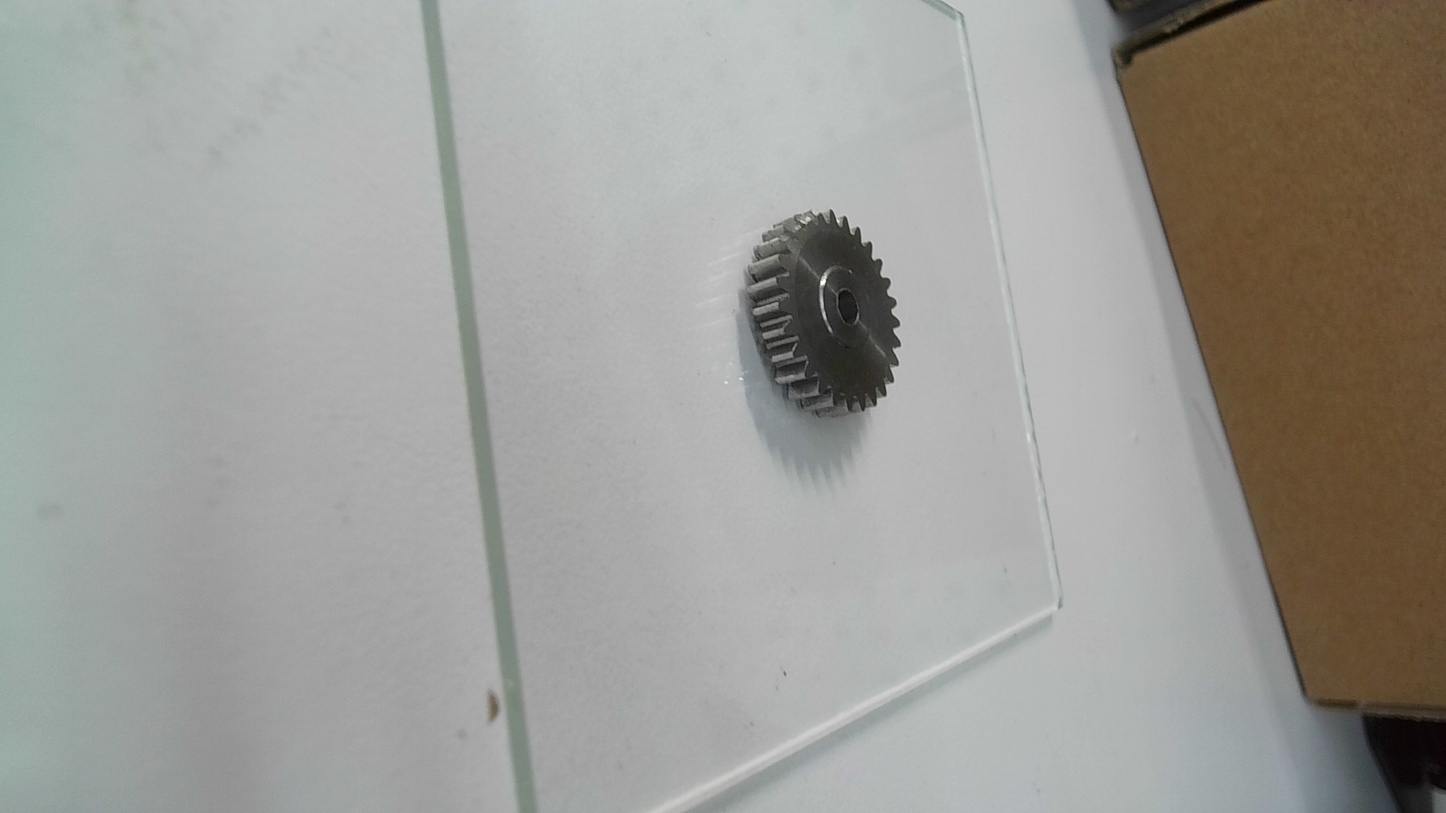gear: (742, 204, 905, 417)
